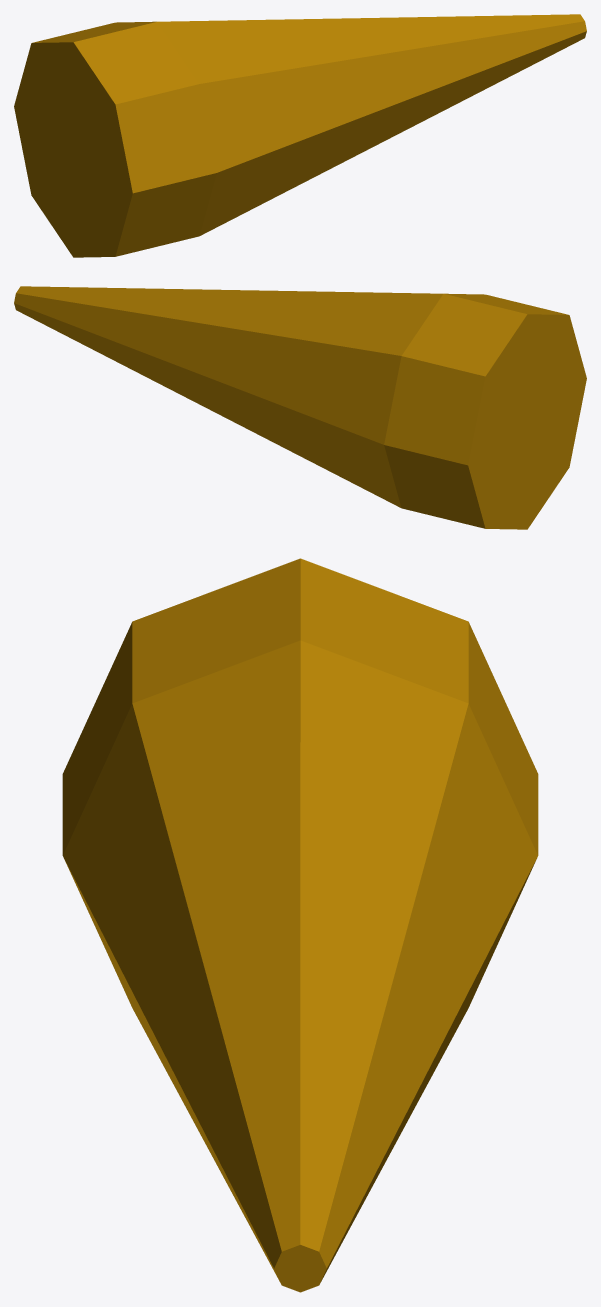
File: 7.62x51mm_Projectile.glb
3 views of the same model, one above another, from view 1: azimuth 30°, elevation 25°; view 2: azimuth 150°, elevation 25°; view 3: azimuth 270°, elevation 25° (orthographic). The views are drawn at different scales.
Parts seen in each view (by area): view 1: 7.62x51 mag.002; view 2: 7.62x51 mag.002; view 3: 7.62x51 mag.002.
Part boxes in pixels (left/top/right/bottom): 7.62x51 mag.002: left=14, top=14, right=586, bottom=257; 7.62x51 mag.002: left=14, top=286, right=586, bottom=529; 7.62x51 mag.002: left=62, top=558, right=538, bottom=1292.
Size of the model in its own units: 0.1876 by 0.0762 by 0.0762.
